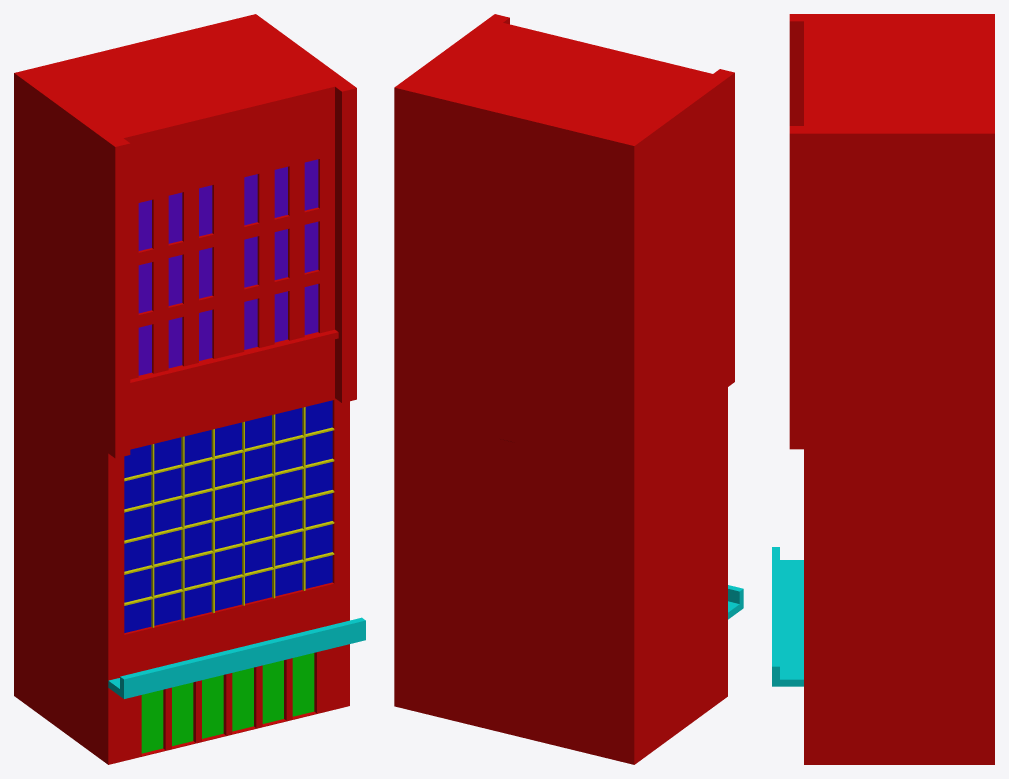
Rendered from Building_01.fbx.
The picture shows the model from 3 angles, left to right: view 1: azimuth 30°, elevation 25°; view 2: azimuth 150°, elevation 25°; view 3: azimuth 270°, elevation 25°; orthographic projection. The views are drawn at different scales.
Parts seen in each view (by area): view 1: Buil_01; view 2: Buil_01; view 3: Buil_01.
Boxes of the visible parts, left/top/right/bottom form: Buil_01: left=14, top=14, right=365, bottom=764; Buil_01: left=394, top=14, right=743, bottom=764; Buil_01: left=772, top=14, right=994, bottom=764.
Bounding box in the file's own units: 1440 × 3546 × 1134.
